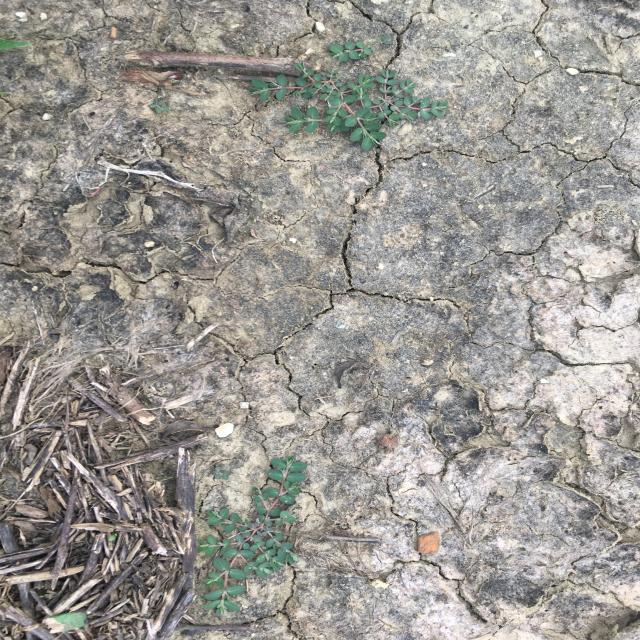SpottedSpurge: (245, 60, 451, 151), (195, 455, 308, 618), (329, 33, 394, 63)
